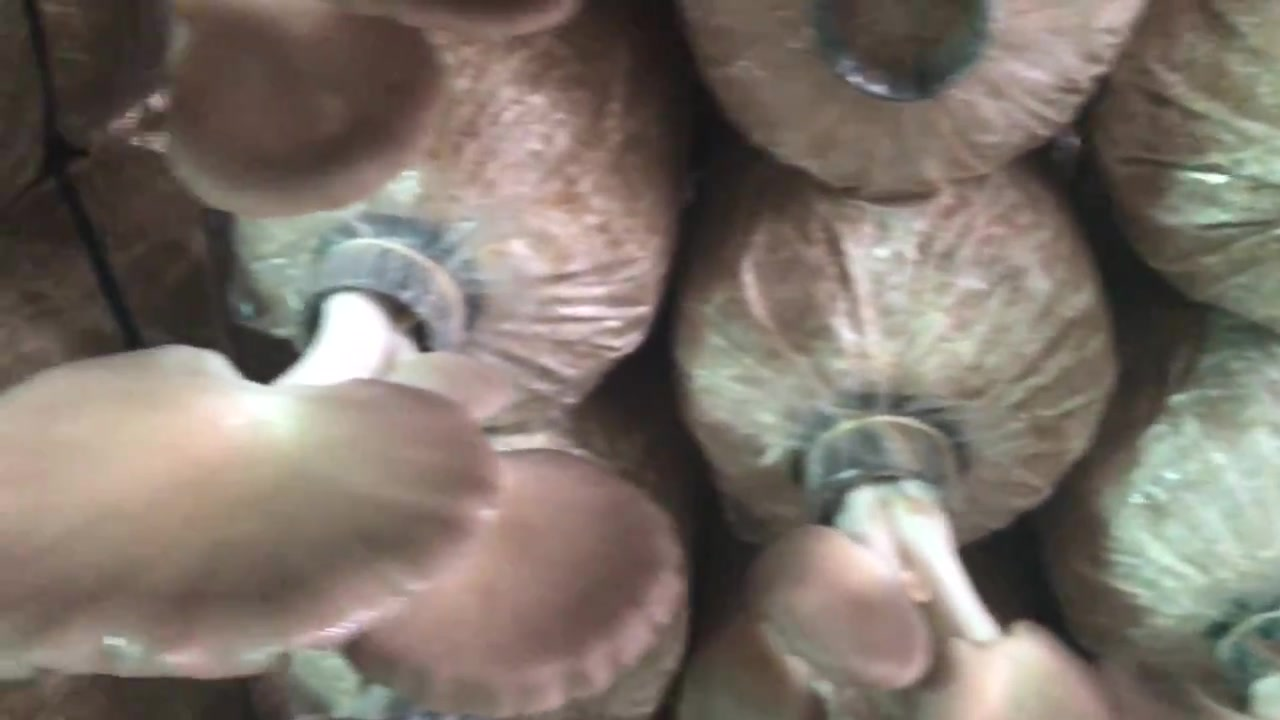nam: (1, 218, 506, 678), (680, 410, 1109, 720), (341, 452, 689, 718)
